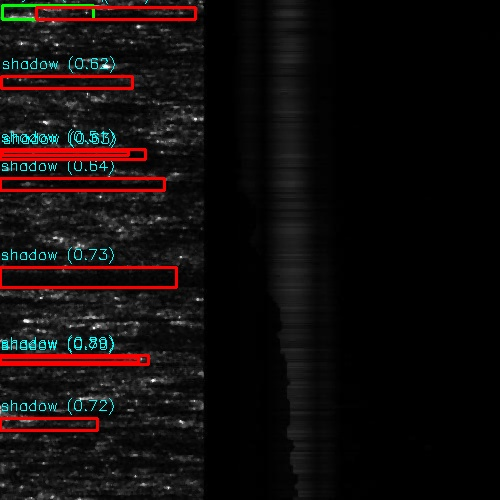rock: (0, 6, 92, 19)
shadow: (40, 6, 232, 19), (0, 75, 184, 86), (0, 181, 105, 190), (0, 359, 137, 364), (0, 433, 33, 446)
